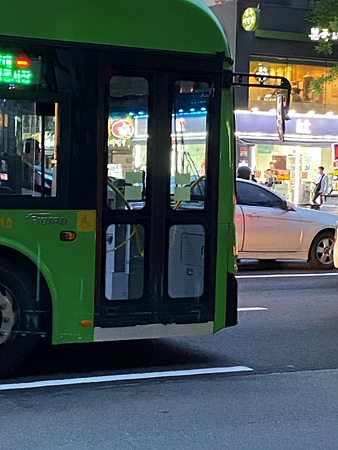entrance: (96, 51, 218, 325)
